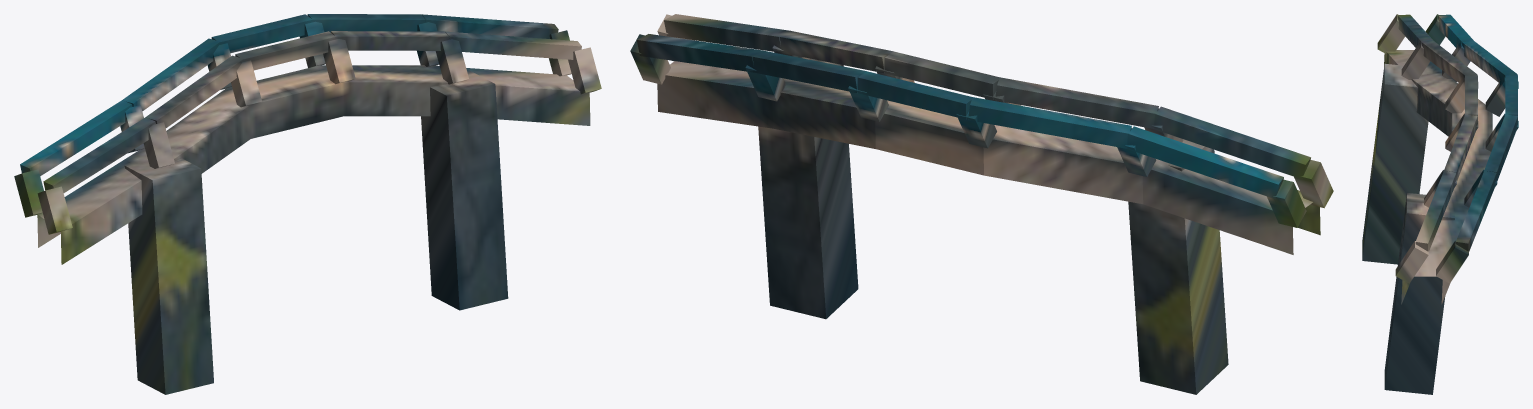
The model's file is stone_bridge.glb.
3 views of the same model, side by side, from view 1: azimuth 30°, elevation 25°; view 2: azimuth 150°, elevation 25°; view 3: azimuth 270°, elevation 25° (orthographic). The views are drawn at different scales.
Visible parts, largest first — view 1: Pier_4, Pier_1, Outer_girder_0, Arched_deck, Rail_1_1, Rail_0_1, Rail_0_5, Rail_1_2, Rail_0_2, Rail_0_4, Rail_1_5, Rail_1_4 (+9 smaller); view 2: Outer_girder_1, Pier_4, Pier_1, Arched_deck, Rail_1_2, Rail_0_1, Rail_1_1, Rail_0_2, Rail_0_5, Rail_1_5, Rail_0_3, Rail_1_3 (+9 smaller); view 3: Pier_1, Pier_4, Arched_deck, Rail_0_5, Rail_1_5, Outer_girder_0, Rail_1_4, Rail_0_4, Rail_0_2, Rail_1_2, Post_0_5, Post_1_5 (+14 smaller).
Part boxes in pixels (x1=…): Pier_4: x1=421, y1=69, x2=508, y2=310; Pier_1: x1=124, y1=158, x2=213, y2=394; Outer_girder_0: x1=60, y1=82, x2=590, y2=264; Arched_deck: x1=38, y1=65, x2=579, y2=223; Rail_1_1: x1=20, y1=100, x2=132, y2=175; Rail_0_1: x1=43, y1=117, x2=155, y2=192; Rail_0_5: x1=445, y1=31, x2=581, y2=59; Rail_1_2: x1=122, y1=38, x2=219, y2=111; Rail_0_2: x1=145, y1=55, x2=243, y2=128; Rail_0_4: x1=331, y1=31, x2=449, y2=50; Rail_1_5: x1=421, y1=14, x2=558, y2=38; Rail_1_4: x1=307, y1=14, x2=425, y2=32; Outer_girder_1: x1=657, y1=75, x2=1293, y2=254; Pier_4: x1=758, y1=58, x2=858, y2=319; Pier_1: x1=1128, y1=139, x2=1228, y2=394; Arched_deck: x1=665, y1=61, x2=1312, y2=210; Rail_1_2: x1=968, y1=97, x2=1131, y2=148; Rail_0_1: x1=1154, y1=106, x2=1310, y2=179; Rail_1_1: x1=1126, y1=126, x2=1283, y2=199; Rail_0_2: x1=995, y1=77, x2=1158, y2=128; Rail_0_5: x1=664, y1=14, x2=790, y2=52; Rail_1_5: x1=637, y1=34, x2=763, y2=72; Rail_0_3: x1=884, y1=51, x2=999, y2=99; Rail_1_3: x1=857, y1=71, x2=972, y2=119; Pier_1: x1=1362, y1=63, x2=1432, y2=264; Pier_4: x1=1384, y1=193, x2=1454, y2=394; Arched_deck: x1=1386, y1=50, x2=1492, y2=276; Rail_0_5: x1=1415, y1=171, x2=1456, y2=251; Rail_1_5: x1=1455, y1=171, x2=1496, y2=251; Outer_girder_0: x1=1384, y1=52, x2=1452, y2=304; Rail_1_4: x1=1484, y1=114, x2=1517, y2=180; Rail_0_4: x1=1444, y1=114, x2=1477, y2=180; Rail_0_2: x1=1421, y1=41, x2=1477, y2=82; Rail_1_2: x1=1462, y1=41, x2=1517, y2=82; Post_0_5: x1=1395, y1=241, x2=1428, y2=283; Post_1_5: x1=1436, y1=241, x2=1468, y2=283.
Size of the model in its own units: 21.81 by 9.92 by 6.17.
1 material, 1 textured.
